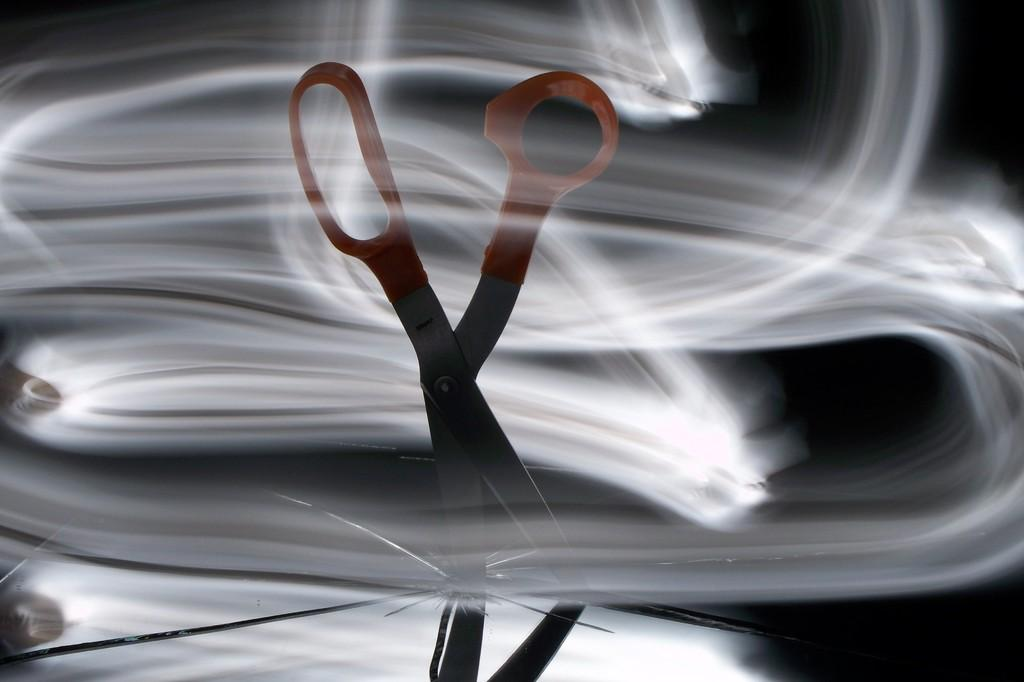Book: (1, 0, 1021, 680)
